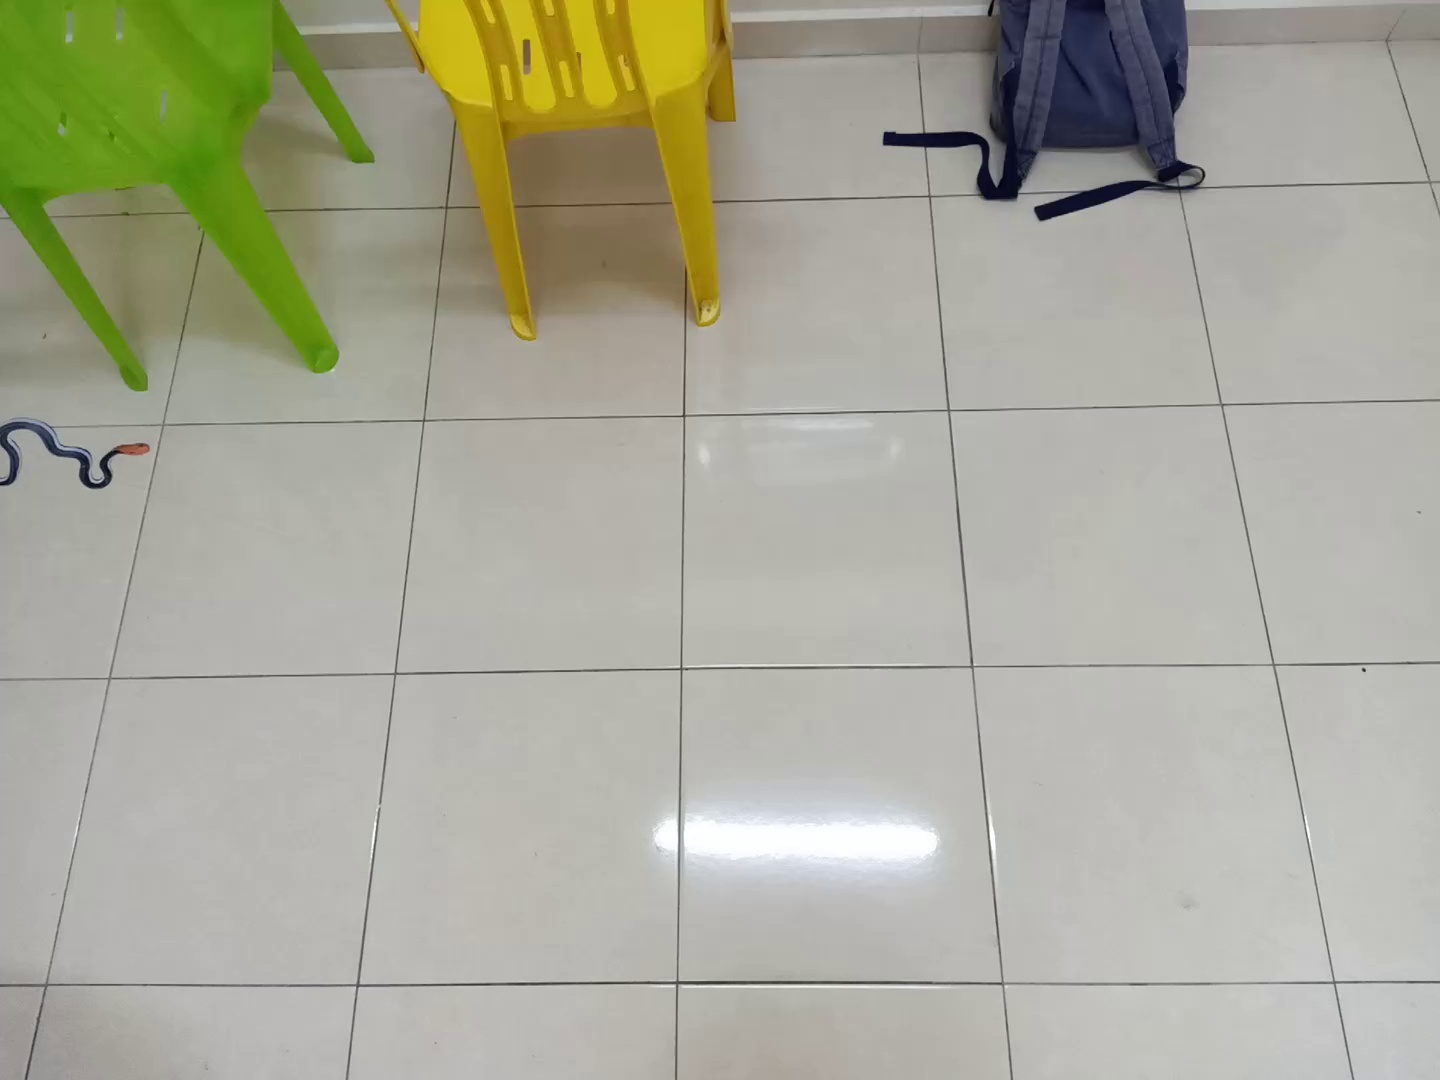snake: (1, 413, 154, 503)
